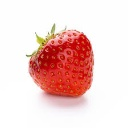strawberry: (27, 26, 96, 98)
